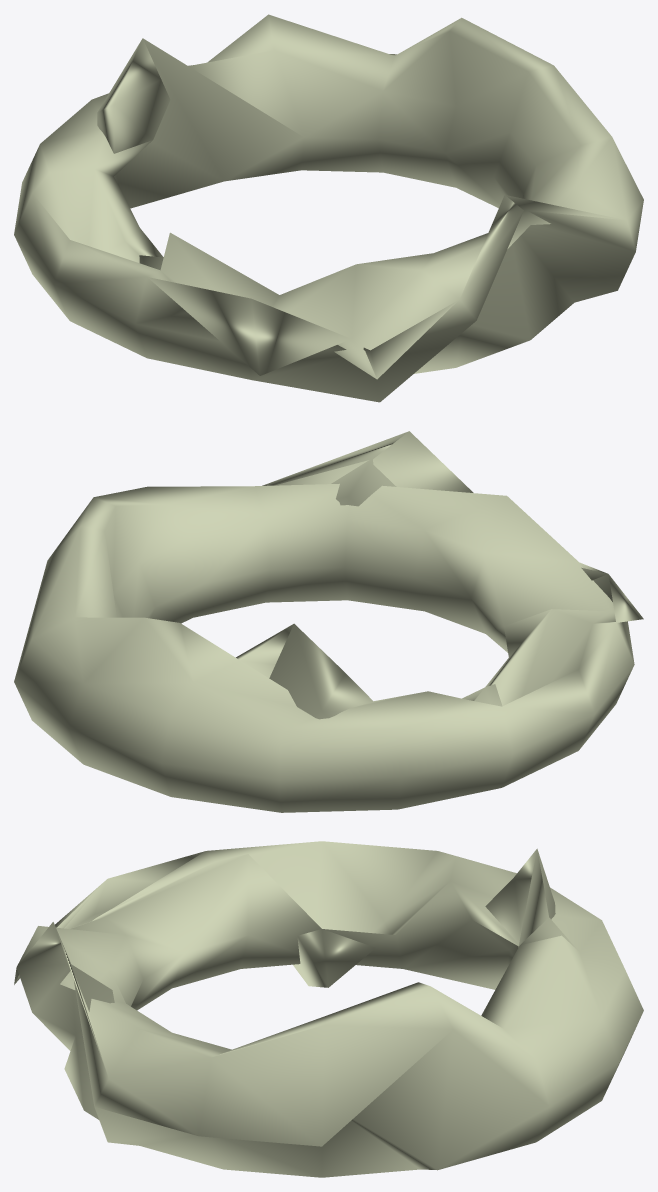
The model's file is coarse ring.fbx.
3 views of the same model, one above another, from view 1: azimuth 30°, elevation 25°; view 2: azimuth 150°, elevation 25°; view 3: azimuth 270°, elevation 25° (orthographic).
Parts seen in each view (by area): view 1: Torus1; view 2: Torus1; view 3: Torus1.
Boxes of the visible parts, left/top/right/bottom form: Torus1: left=14, top=14, right=643, bottom=402; Torus1: left=14, top=431, right=643, bottom=812; Torus1: left=14, top=841, right=643, bottom=1177.
Bounding box in the file's own units: 6.35 × 2.19 × 6.21.
